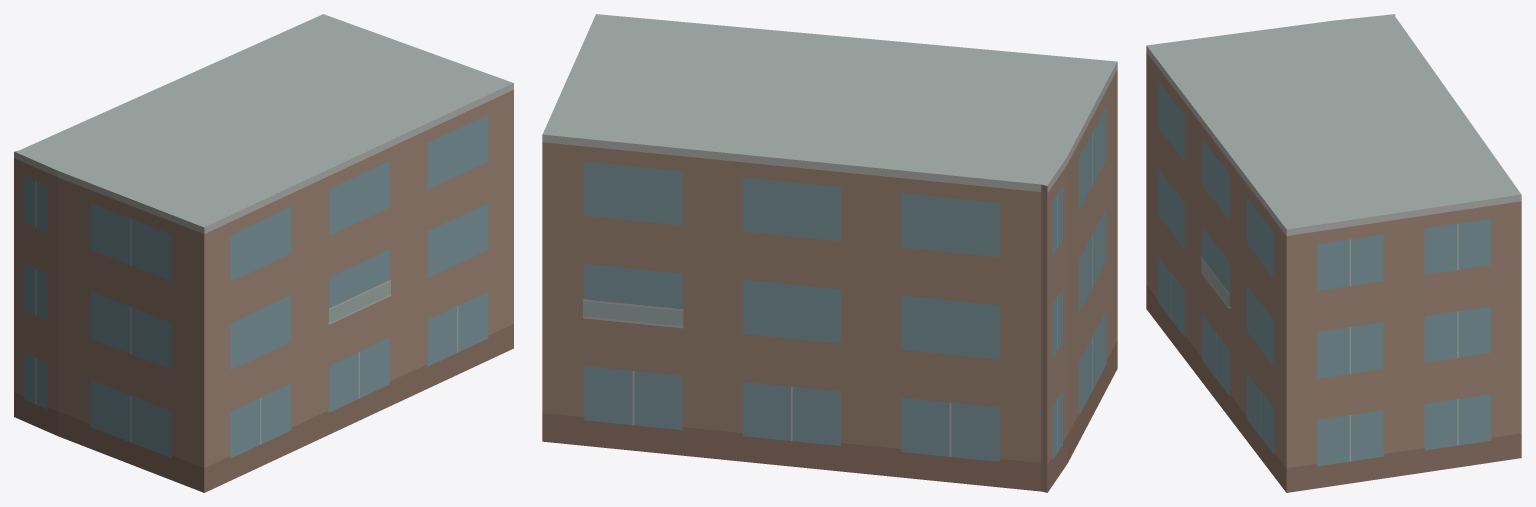
Rendered from survey-upis-32618936.glb.
3 renders of one model, left to right at view 1: azimuth 30°, elevation 25°; view 2: azimuth 150°, elevation 25°; view 3: azimuth 270°, elevation 25°, orthographic. The views are drawn at different scales.
Parts seen in each view (by area): view 1: survey-upis-32618936.tmp; view 2: survey-upis-32618936.tmp; view 3: survey-upis-32618936.tmp.
Part boxes in pixels (left/top/right/bottom): survey-upis-32618936.tmp: left=14, top=14, right=513, bottom=492; survey-upis-32618936.tmp: left=542, top=14, right=1117, bottom=492; survey-upis-32618936.tmp: left=1146, top=14, right=1521, bottom=492.
Bounding box in the file's own units: 17.21 × 9.8 × 12.67.
